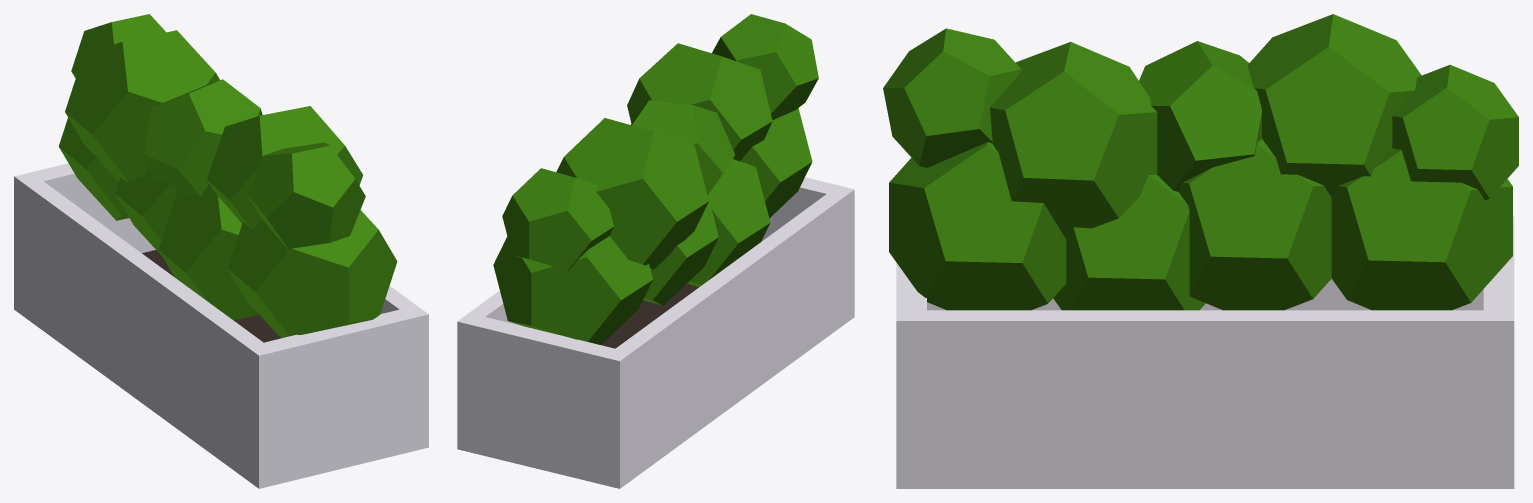
The model's file is Hedges_v01.fbx.
The picture shows the model from 3 angles, left to right: view 1: azimuth 30°, elevation 25°; view 2: azimuth 150°, elevation 25°; view 3: azimuth 270°, elevation 25°; orthographic projection. The views are drawn at different scales.
Parts seen in each view (by area): view 1: Cube_Cube_1, Platonic_3, Platonic_2, Platonic_2_2, Platonic_1, Platonic_4, Platonic, Platonic_5, Platonic_5_2, Platonic_5_3; view 2: Cube_Cube_1, Platonic_2, Platonic_5_2, Platonic, Platonic_5_3, Platonic_2_2, Platonic_4, Platonic_3, Platonic_1, Platonic_5; view 3: Cube_Cube_1, Platonic, Platonic_3, Platonic_5_2, Platonic_2, Platonic_5, Platonic_4, Platonic_2_2, Platonic_1, Platonic_5_3.
Boxes of the visible parts, bbox=[...] form: Cube_Cube_1: bbox=[14, 163, 428, 488]; Platonic_3: bbox=[227, 210, 397, 338]; Platonic_2: bbox=[65, 30, 219, 181]; Platonic_2_2: bbox=[247, 142, 365, 248]; Platonic_1: bbox=[144, 79, 262, 196]; Platonic_4: bbox=[158, 183, 258, 320]; Platonic: bbox=[207, 106, 362, 230]; Platonic_5: bbox=[115, 170, 177, 255]; Platonic_5_2: bbox=[58, 118, 128, 220]; Platonic_5_3: bbox=[71, 14, 165, 78]; Cube_Cube_1: bbox=[457, 177, 854, 488]; Platonic_2: bbox=[556, 118, 708, 269]; Platonic_5_2: bbox=[493, 236, 652, 344]; Platonic: bbox=[627, 43, 772, 161]; Platonic_5_3: bbox=[502, 168, 613, 270]; Platonic_2_2: bbox=[712, 14, 818, 119]; Platonic_4: bbox=[687, 159, 770, 286]; Platonic_3: bbox=[740, 108, 812, 218]; Platonic_1: bbox=[631, 100, 735, 194]; Platonic_5: bbox=[643, 195, 718, 305]; Cube_Cube_1: bbox=[896, 216, 1514, 488]; Platonic: bbox=[990, 42, 1157, 238]; Platonic_3: bbox=[889, 142, 1066, 310]; Platonic_5_2: bbox=[1331, 148, 1512, 310]; Platonic_2: bbox=[1247, 14, 1421, 197]; Platonic_5: bbox=[1178, 139, 1331, 310]; Platonic_4: bbox=[1053, 174, 1205, 310]; Platonic_2_2: bbox=[883, 28, 1021, 167]; Platonic_1: bbox=[1139, 41, 1261, 191]; Platonic_5_3: bbox=[1392, 64, 1518, 200].
Size of the model in its own units: 104 by 175 by 257.
